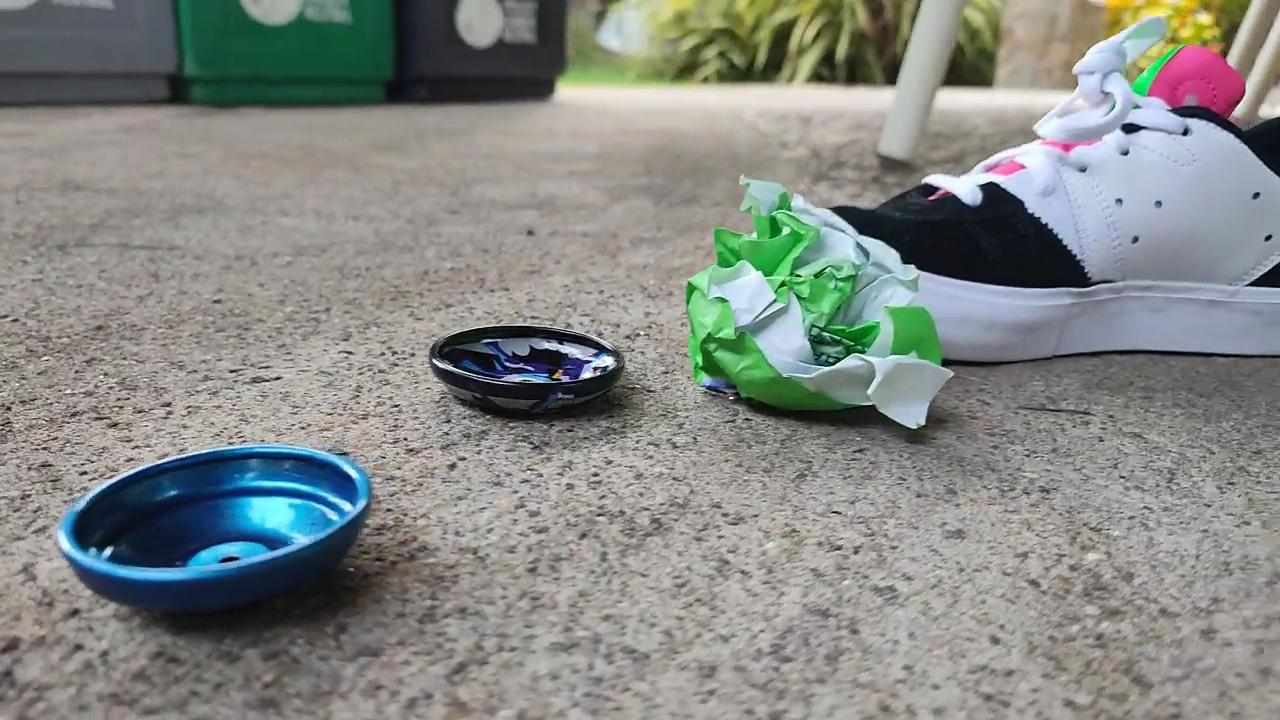Paper: (669, 170, 964, 443)
